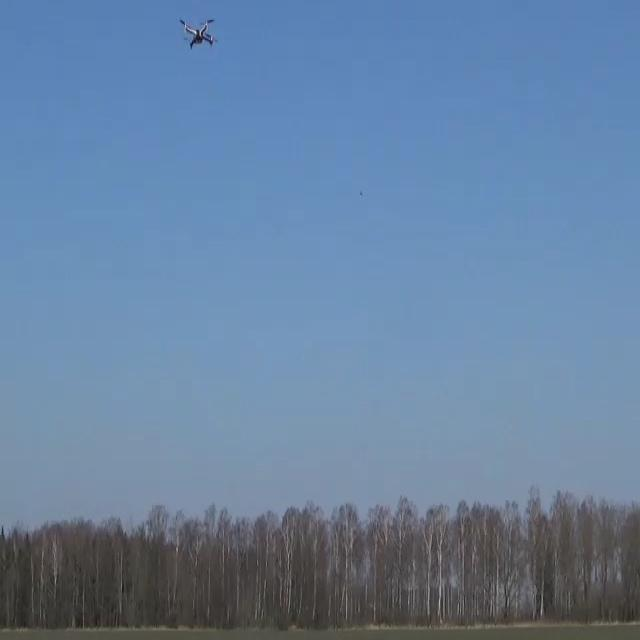drone: (179, 16, 216, 49)
